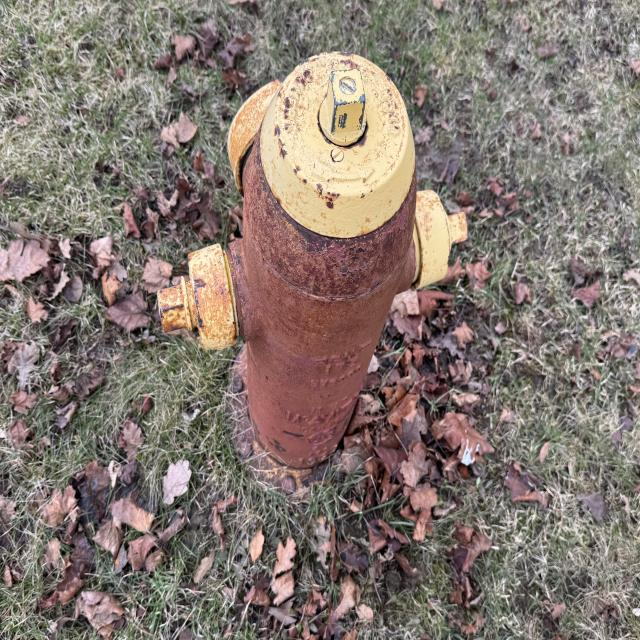Fire hydrant: (156, 49, 470, 508)
